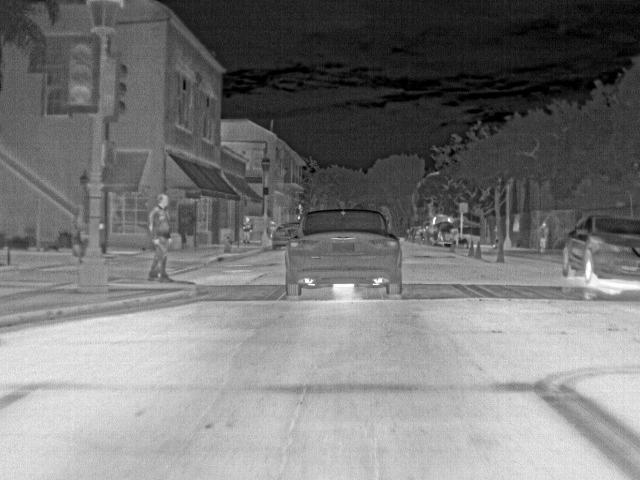car: (284, 206, 403, 299), (560, 214, 640, 283), (272, 221, 289, 251), (461, 226, 483, 248), (434, 222, 450, 248), (405, 225, 420, 242)
person: (148, 194, 175, 284), (241, 214, 255, 246), (537, 220, 551, 252), (450, 223, 462, 250), (421, 224, 433, 244)
